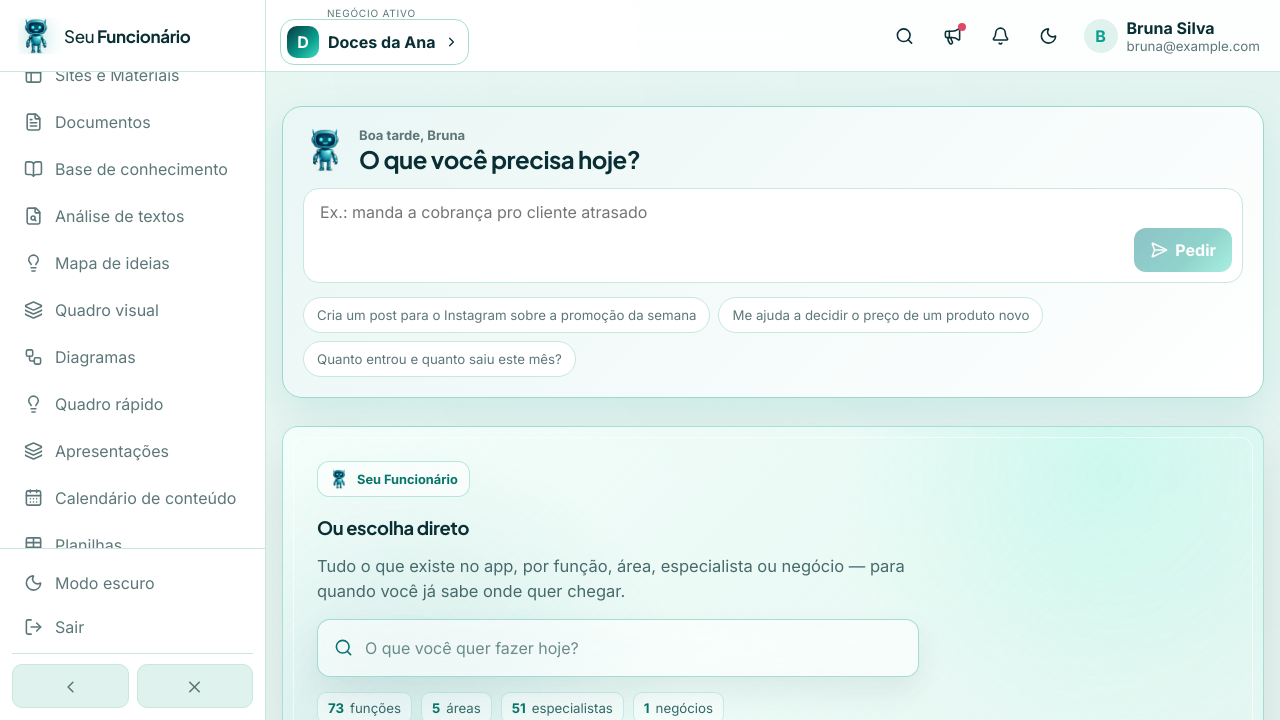
Test: Quadro visual › abre a votação, registra voto e mostra os mais votados
(page scrolled)
Click the button "Quadro visual": {"x": 132, "y": 310} [12,288,253,332]
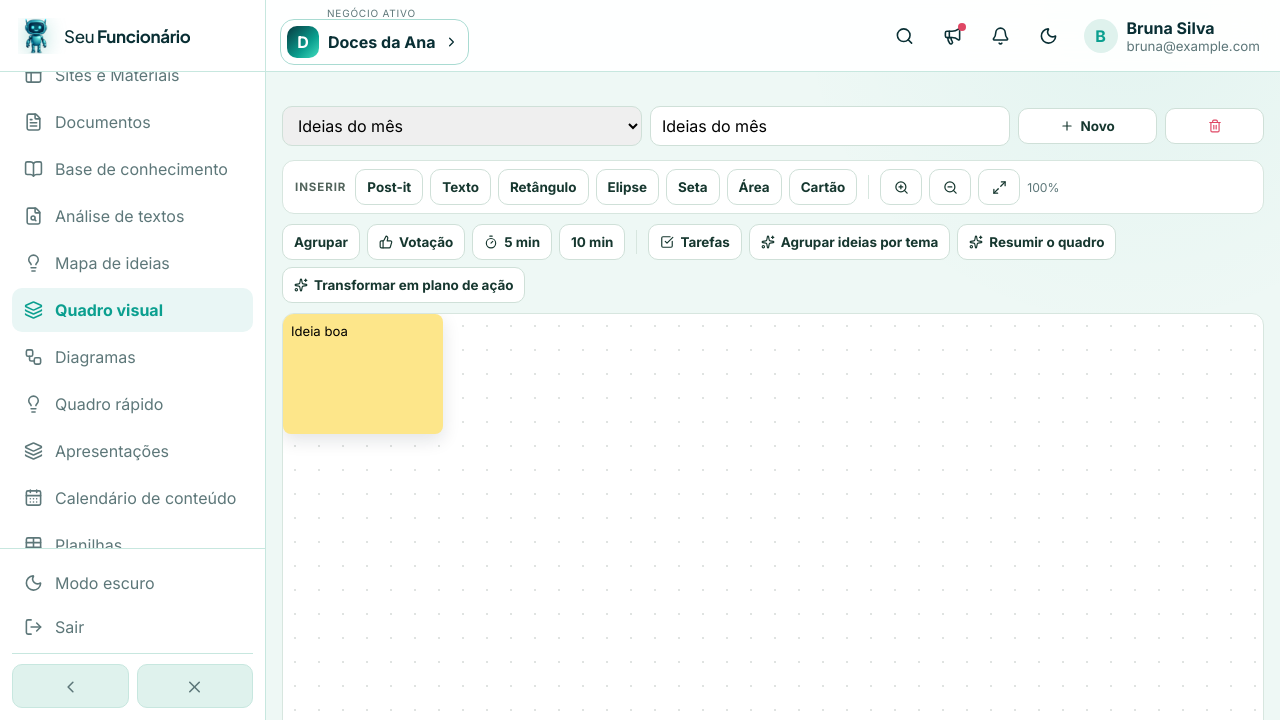
Click the button "Votação": {"x": 416, "y": 242} [367,224,465,260]
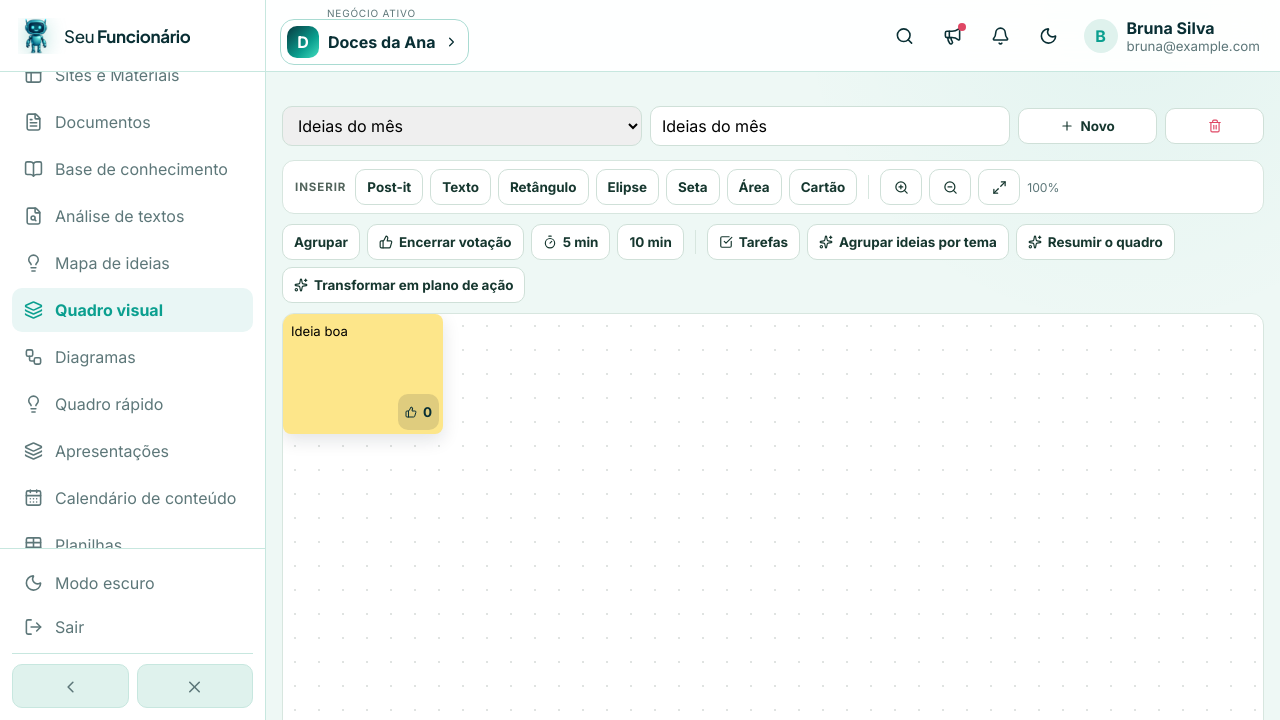
Click the button named "Votar em Ideia boa": {"x": 418, "y": 412} [398,394,439,430]
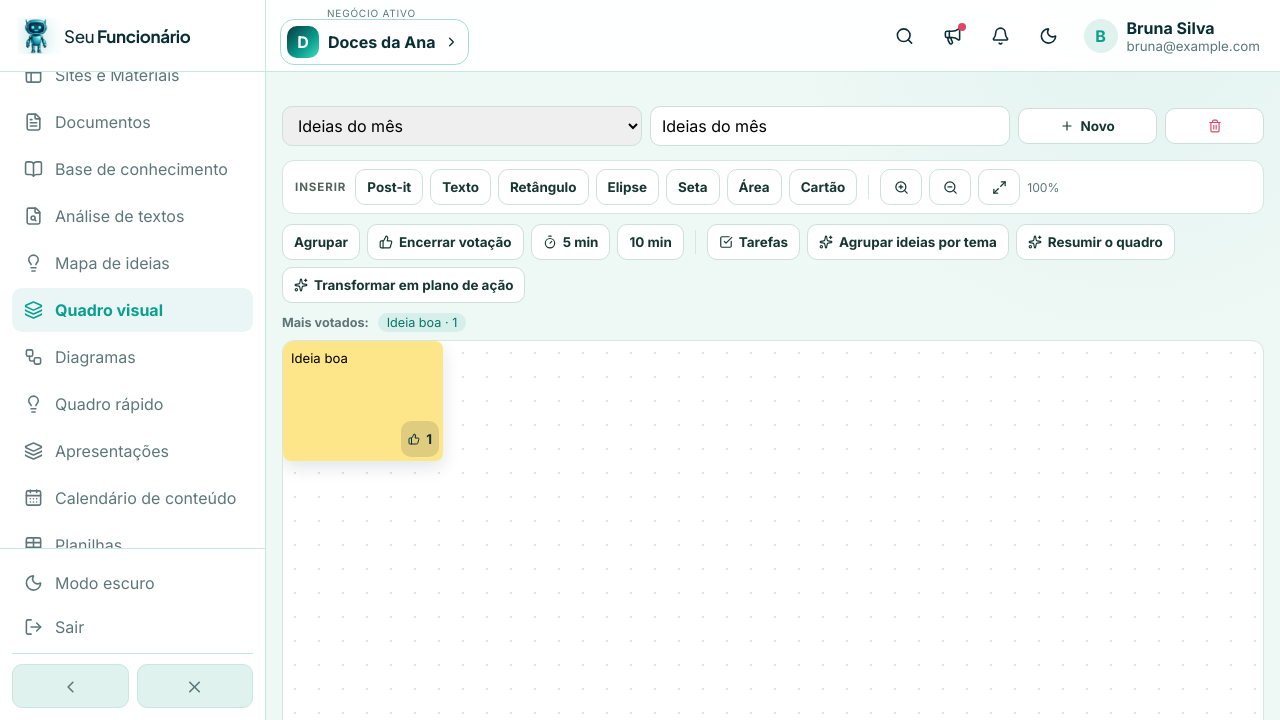
expect the element with class "cvs-top" shows "Ideia boa": met, box [387,315,441,330]
expect the element with class "cvs-top" shows "1": met, box [452,315,457,330]
Click the button named "Votar em Ideia boa": {"x": 420, "y": 439} [401,421,439,457]
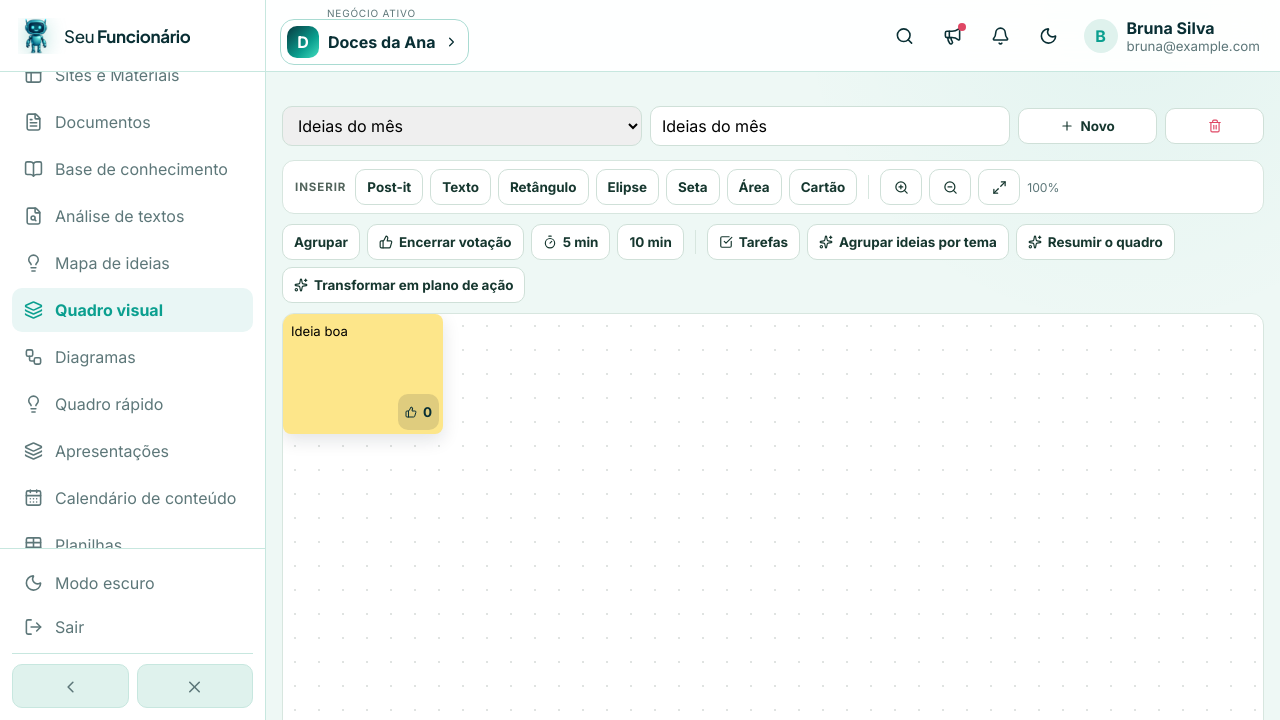
expect the element with class "cvs-top" is gone: met
